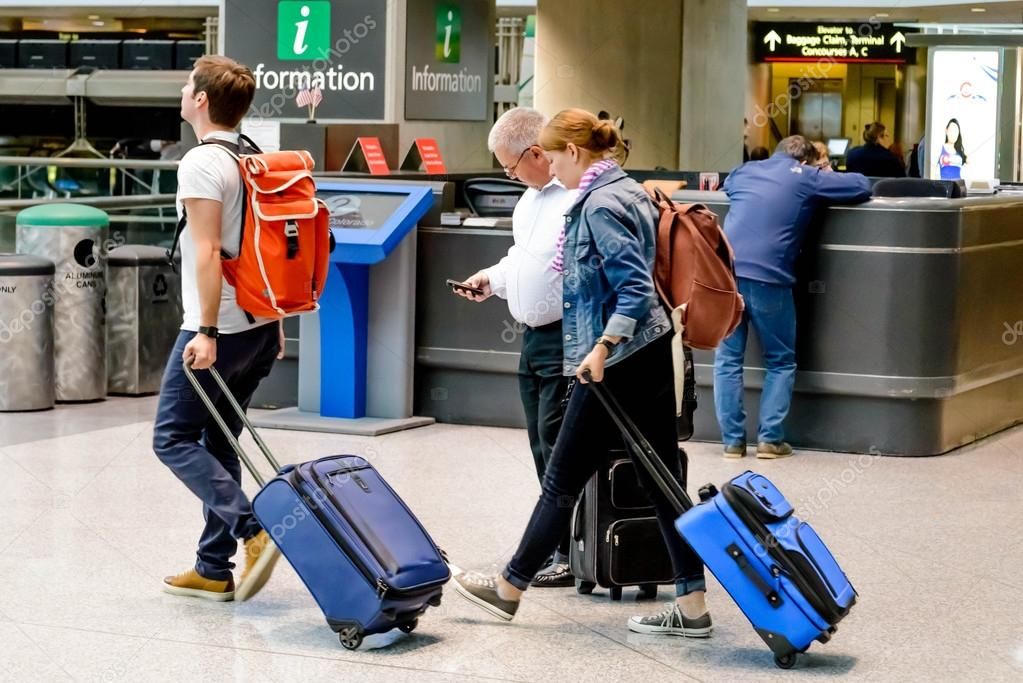backpack: (179, 143, 339, 325), (617, 178, 748, 360)
luggage: (173, 341, 459, 661), (572, 362, 861, 672), (571, 441, 695, 606)
people: (516, 109, 731, 651), (439, 88, 640, 594), (140, 50, 296, 621), (705, 117, 873, 463)
